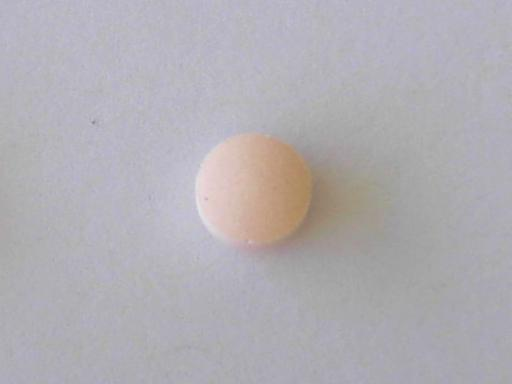Pill: (185, 125, 323, 257)
